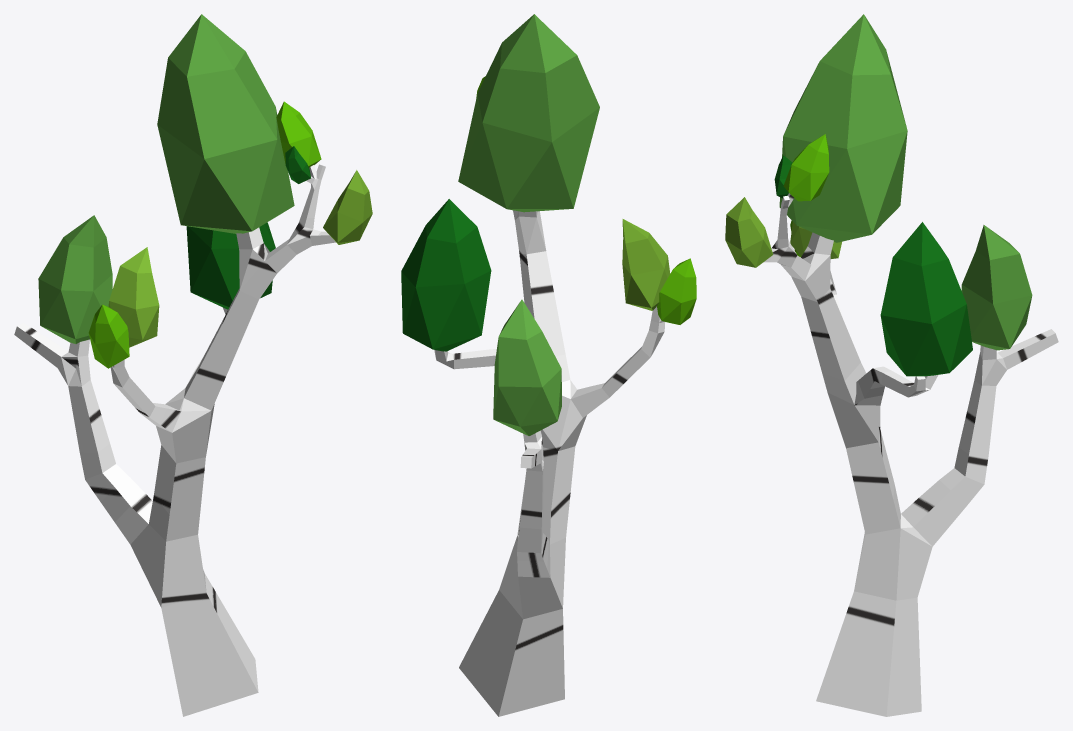
Rendered from BirchTree_v2_with_texture.fbx.
The picture shows the model from 3 angles, left to right: view 1: azimuth 30°, elevation 25°; view 2: azimuth 150°, elevation 25°; view 3: azimuth 270°, elevation 25°; orthographic projection.
Parts seen in each view (by area): view 1: TreeTrunk, Leaf_v1_med, Leaf_v2_med, Leaf_v1_med.002, Leaf_v2_med.001, Leaf_v2_med.002, Leaf_v1_med.001, Leaf_v1_med.003, Leaf_v2_med.003; view 2: TreeTrunk, Leaf_v1_med, Leaf_v1_med.002, Leaf_v2_med, Leaf_v2_med.001, Leaf_v1_med.001; view 3: TreeTrunk, Leaf_v1_med, Leaf_v1_med.002, Leaf_v2_med, Leaf_v2_med.002, Leaf_v1_med.003, Leaf_v2_med.001.
Boxes of the visible parts, x1,y1,x2,y2 form: TreeTrunk: [14, 164, 335, 716]; Leaf_v1_med: [157, 14, 294, 233]; Leaf_v2_med: [38, 215, 112, 343]; Leaf_v1_med.002: [186, 222, 275, 309]; Leaf_v2_med.001: [108, 247, 159, 347]; Leaf_v2_med.002: [323, 170, 372, 244]; Leaf_v1_med.001: [88, 304, 129, 368]; Leaf_v1_med.003: [276, 101, 321, 167]; Leaf_v2_med.003: [285, 146, 310, 183]; TreeTrunk: [434, 210, 665, 716]; Leaf_v1_med: [458, 14, 599, 212]; Leaf_v1_med.002: [401, 199, 491, 351]; Leaf_v2_med: [493, 299, 561, 435]; Leaf_v2_med.001: [622, 219, 670, 310]; Leaf_v1_med.001: [657, 258, 696, 324]; TreeTrunk: [764, 193, 1058, 716]; Leaf_v1_med: [779, 14, 907, 242]; Leaf_v1_med.002: [880, 222, 972, 376]; Leaf_v2_med: [961, 225, 1032, 350]; Leaf_v2_med.002: [725, 197, 773, 267]; Leaf_v1_med.003: [783, 134, 829, 201]; Leaf_v2_med.001: [790, 221, 841, 258].
Bounding box in the file's own units: 290 × 781 × 340.
Materials: 5 (1 with a texture image).
